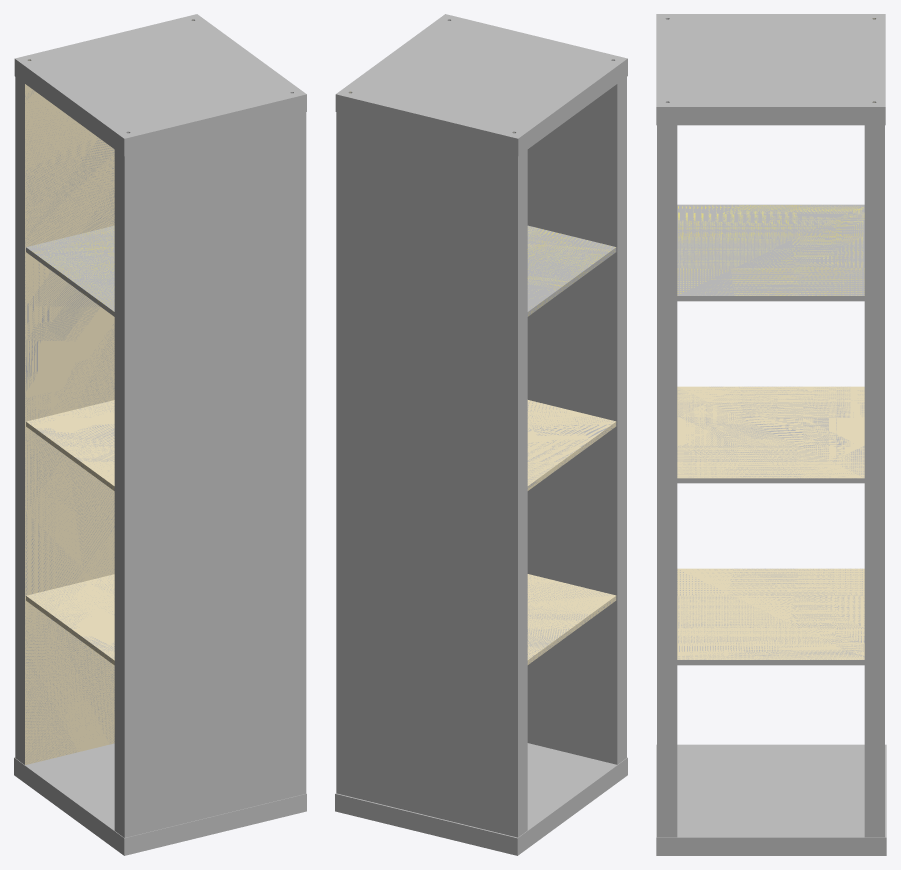
The model's file is Kallax1.dae.
3 views of the same model, side by side, from view 1: azimuth 30°, elevation 25°; view 2: azimuth 150°, elevation 25°; view 3: azimuth 270°, elevation 25° (orthographic). The views are drawn at different scales.
Parts seen in each view (by area): view 1: Component_41 (×8); view 2: Component_41 (×7); view 3: Component_41 (×10).
Boxes of the visible parts, x1=… form: Component_41 (×8): x1=14, y1=14, x2=306, y2=855; Component_41 (×7): x1=335, y1=14, x2=627, y2=855; Component_41 (×10): x1=656, y1=14, x2=886, y2=855.
Size of the model in its own units: 15.35 by 16.06 by 57.64.
